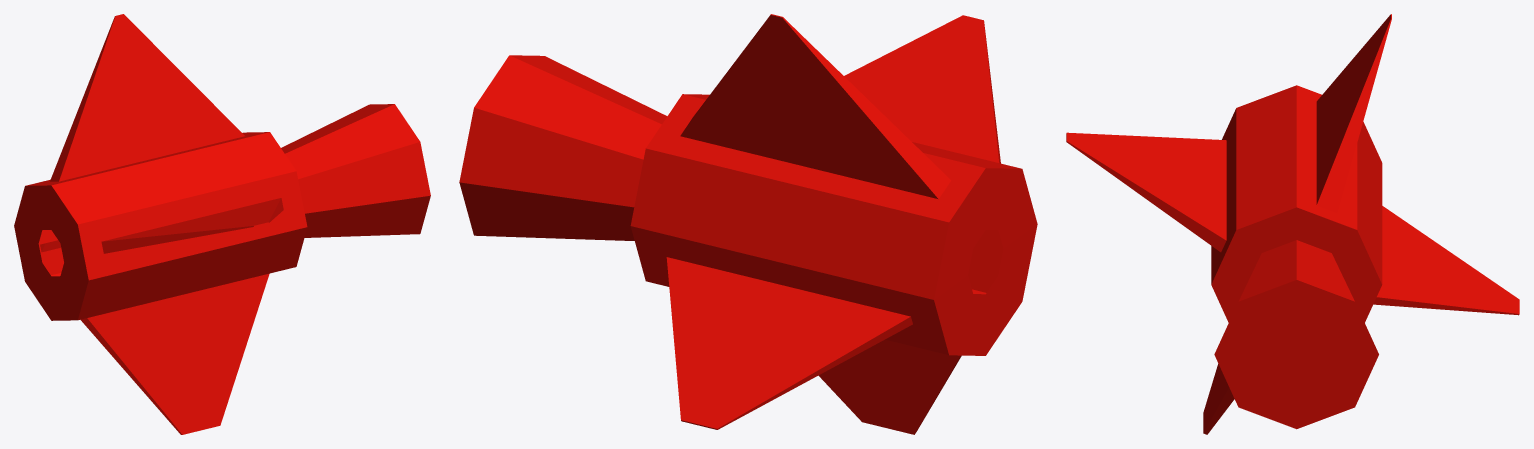
3 renders of one model, left to right at view 1: azimuth 30°, elevation 25°; view 2: azimuth 150°, elevation 25°; view 3: azimuth 270°, elevation 25°, orthographic. The views are drawn at different scales.
Parts seen in each view (by area): view 1: LeftDownArm; view 2: LeftDownArm; view 3: LeftDownArm.
Boxes of the visible parts, bbox=[...] form: LeftDownArm: bbox=[14, 14, 430, 434]; LeftDownArm: bbox=[459, 14, 1037, 434]; LeftDownArm: bbox=[1066, 14, 1519, 434].
Size of the model in its own units: 72.74 by 72.64 by 72.16.
